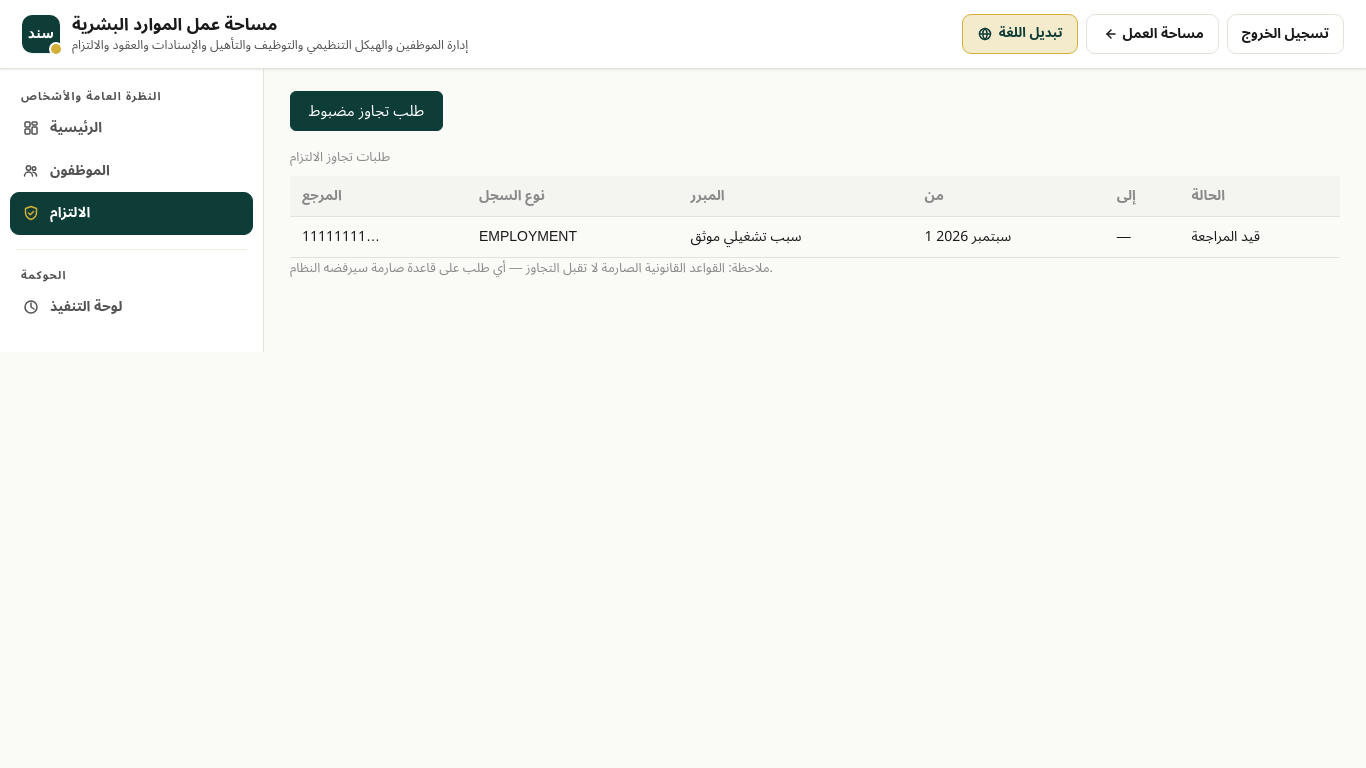
Compliance workspace › renders a compliance-blocked 422 safely without weakening the rule
Expected: the table is shown, [290, 147, 1340, 258]
Click the button "طلب تجاوز مضبوط" at (366, 111), box [290, 91, 443, 131]
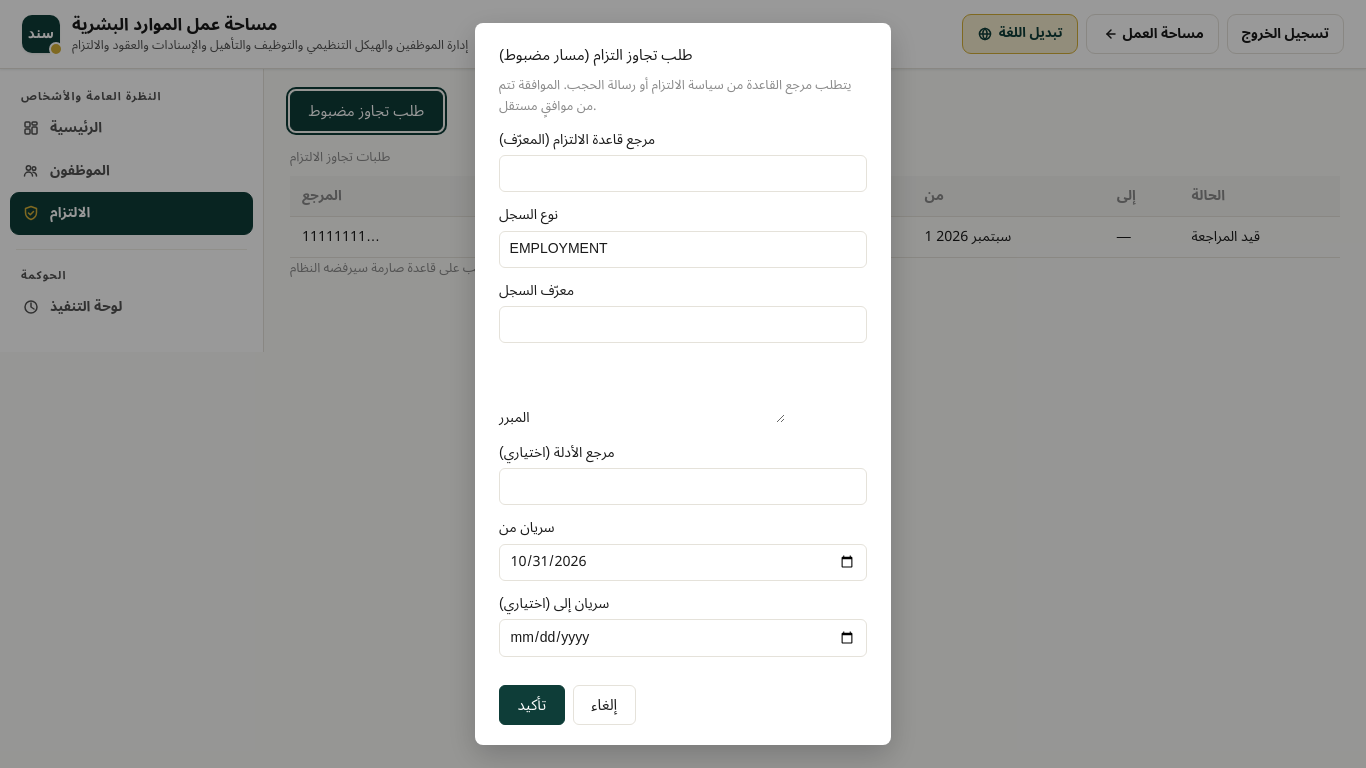
Type "rule-hard" into the field labelled "مرجع قاعدة الالتزام (المعرّف)" at (683, 174), box [499, 155, 867, 192]
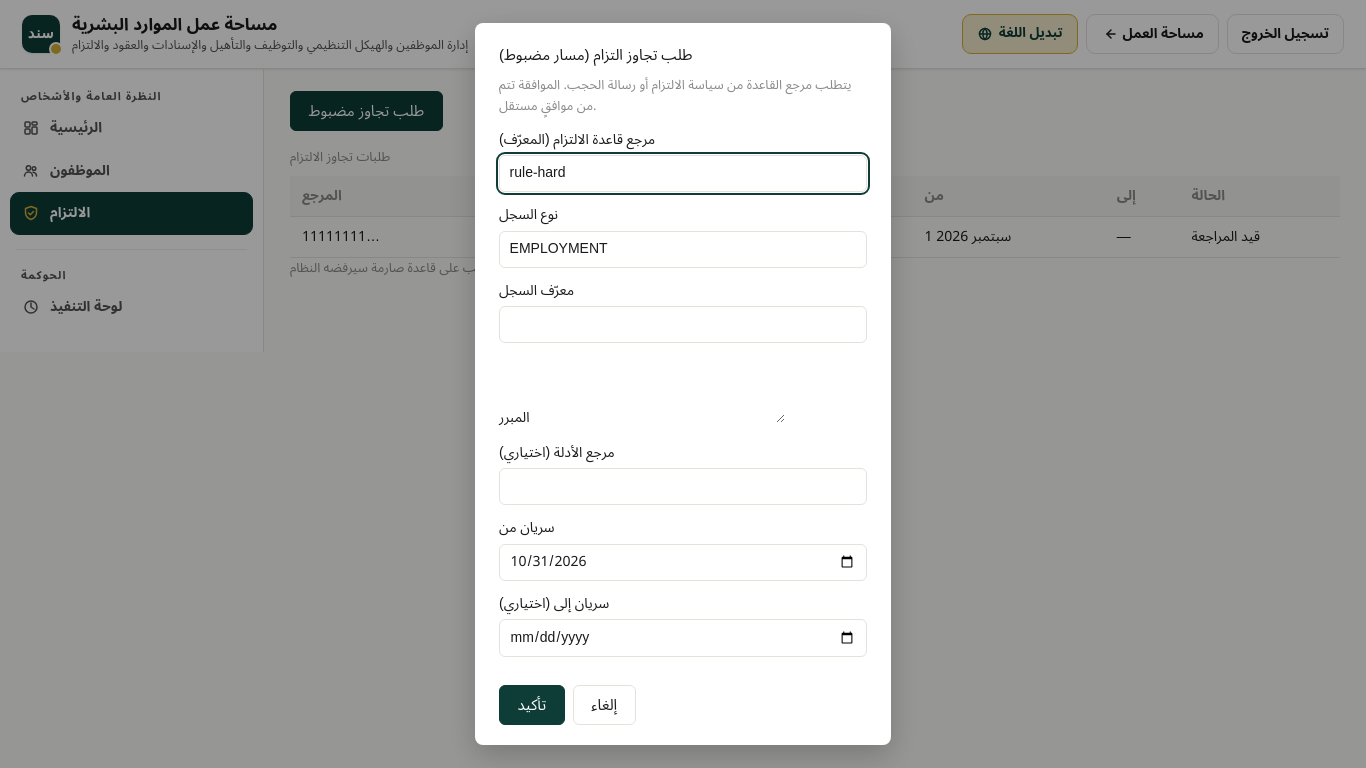
Type "e-1" into the field labelled "معرّف السجل" at (683, 325), box [499, 306, 867, 343]
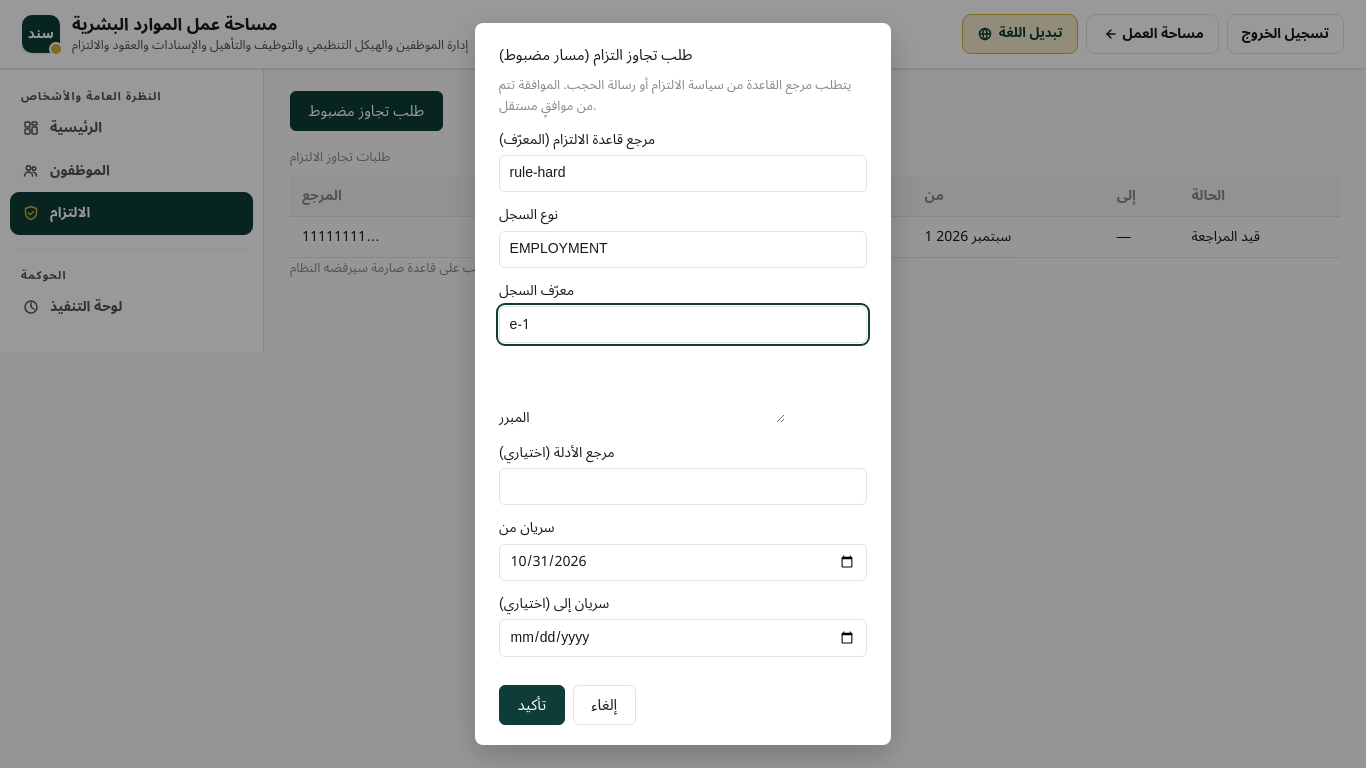
Type "محاولة تجاوز قاعدة صارمة" into the text box labelled "المبرر" at (657, 389), box [530, 355, 785, 422]
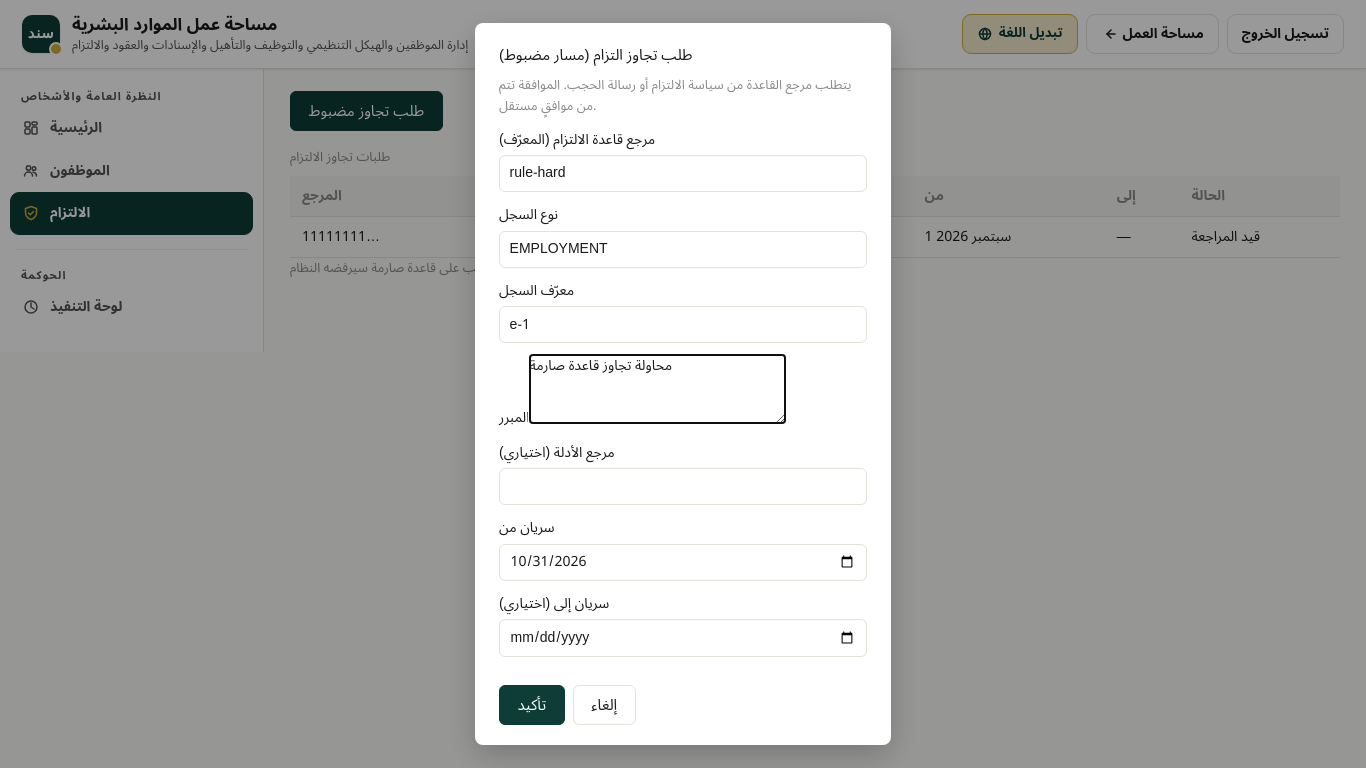
Click the button "تأكيد" at (532, 705), box [499, 685, 565, 725]
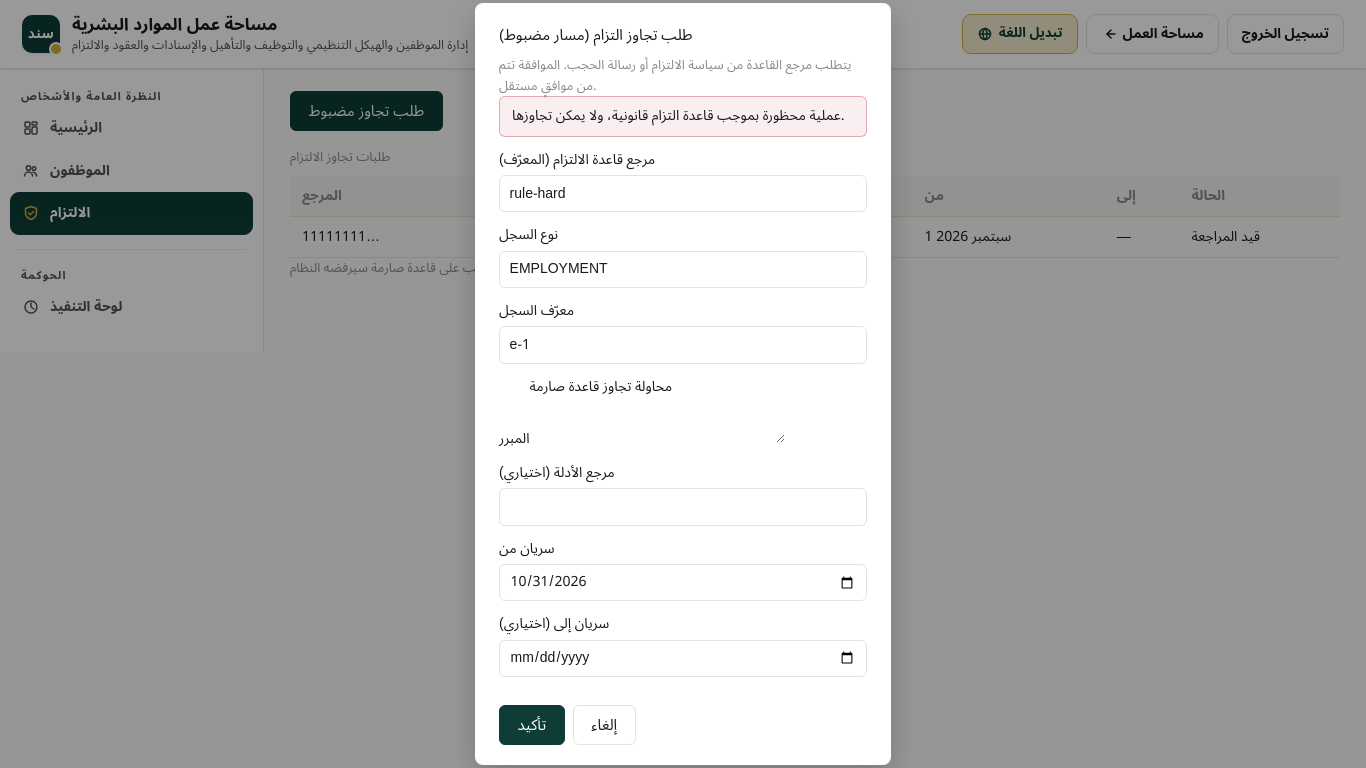
Expected: the message shows "محظورة بموجب قاعدة التزام", [512, 101, 844, 130]
